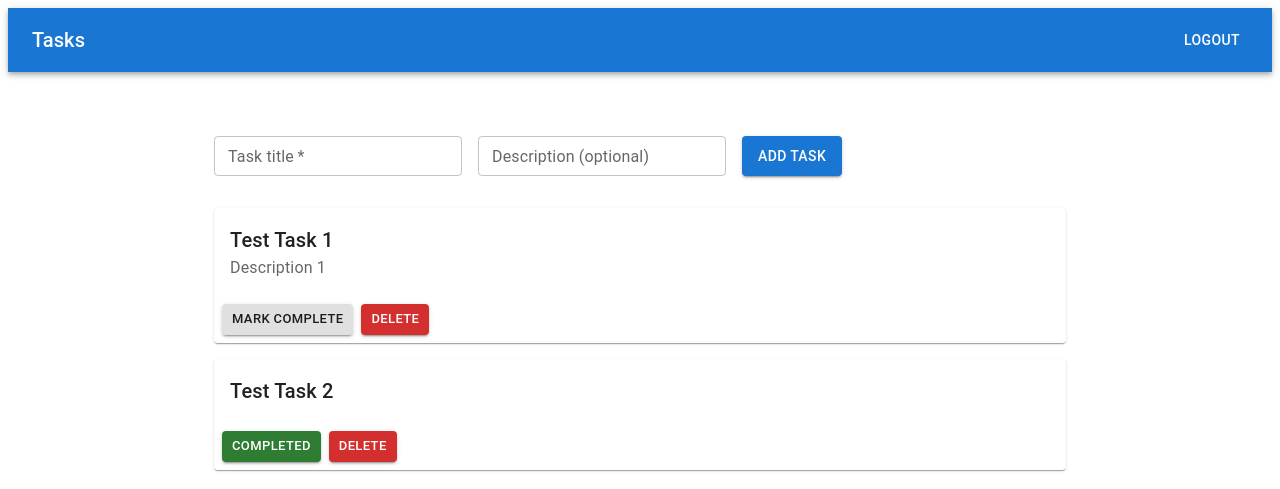
Test: Tasks Component › deletes a task successfully
expect the heading "Test Task 1" is shown: met, box x1=230 y1=228 x2=334 y2=252
Click the button "Delete" below "Description 1" at {"x": 395, "y": 319}, box x1=362 y1=304 x2=429 y2=335
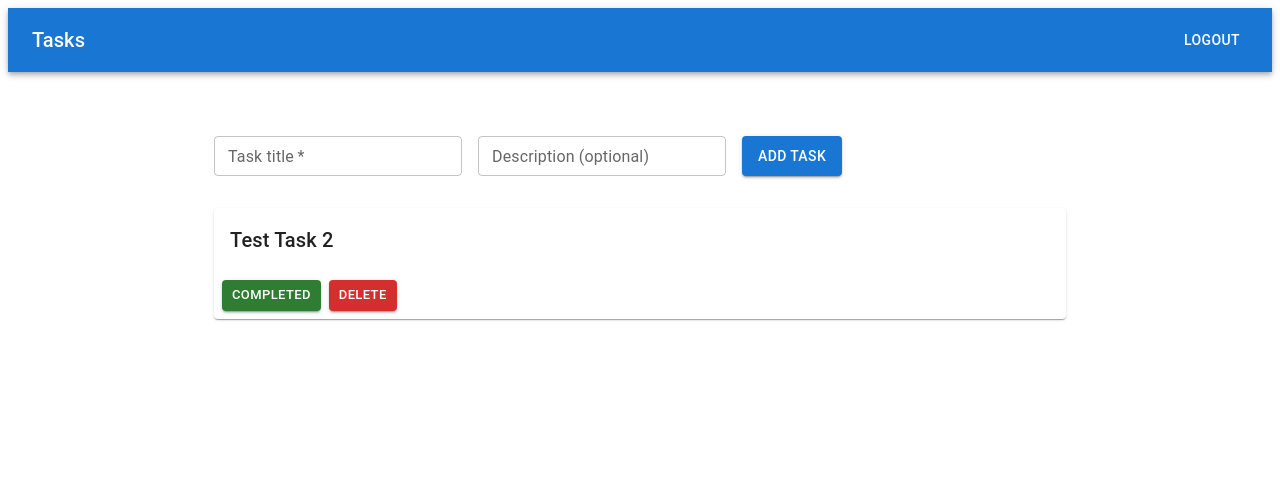
expect the heading "Test Task 1" is gone: met
